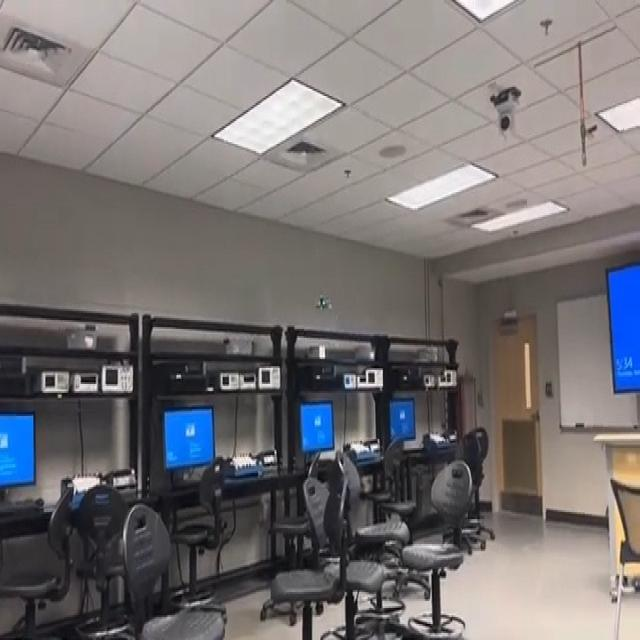drone: (306, 278, 341, 324)
